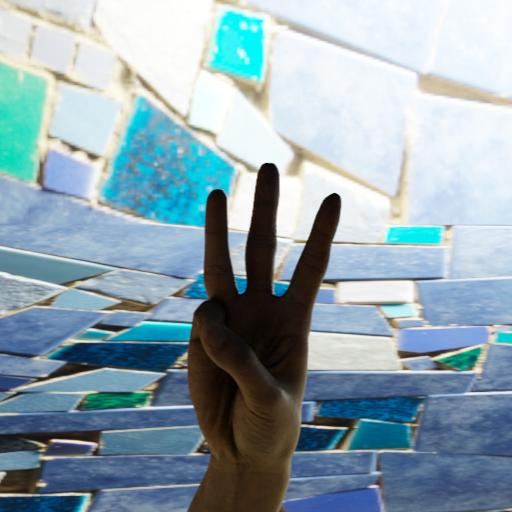W: (175, 156, 355, 470)
